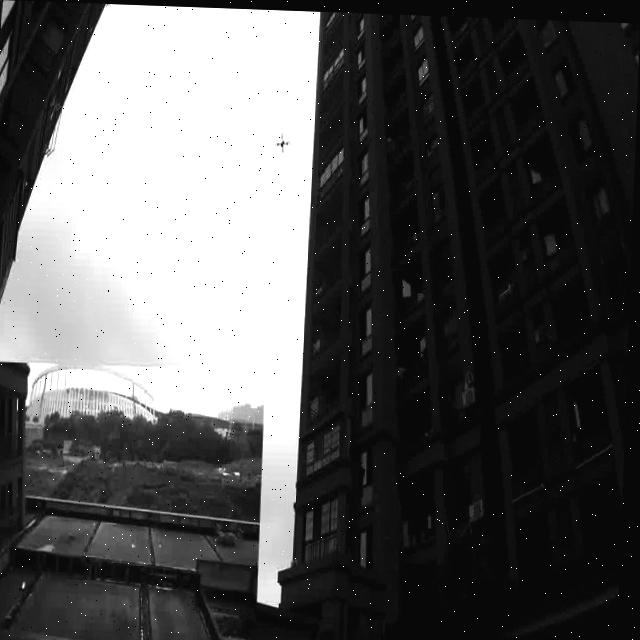drone: (274, 127, 297, 150)
